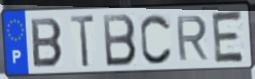B: (101, 13, 139, 69), (29, 17, 65, 70)
C: (139, 12, 174, 67)
E: (210, 9, 247, 65)
R: (174, 14, 210, 63)
T: (69, 14, 96, 70)
